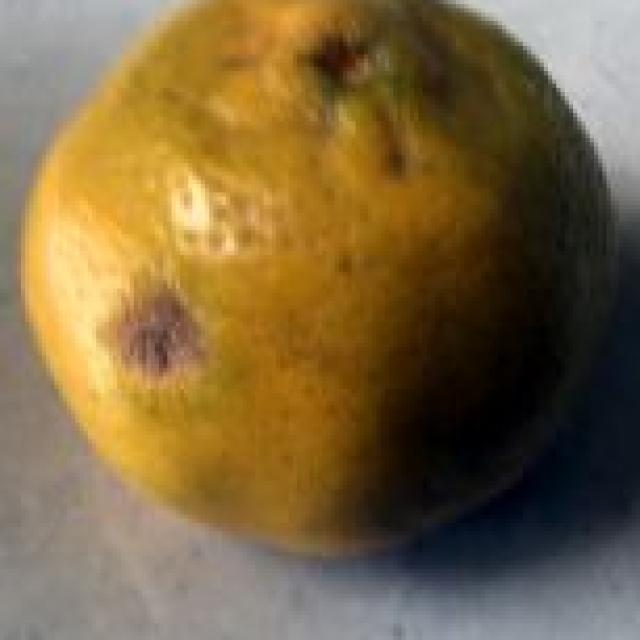Good_Orange-15-21 days: (17, 0, 619, 565)
